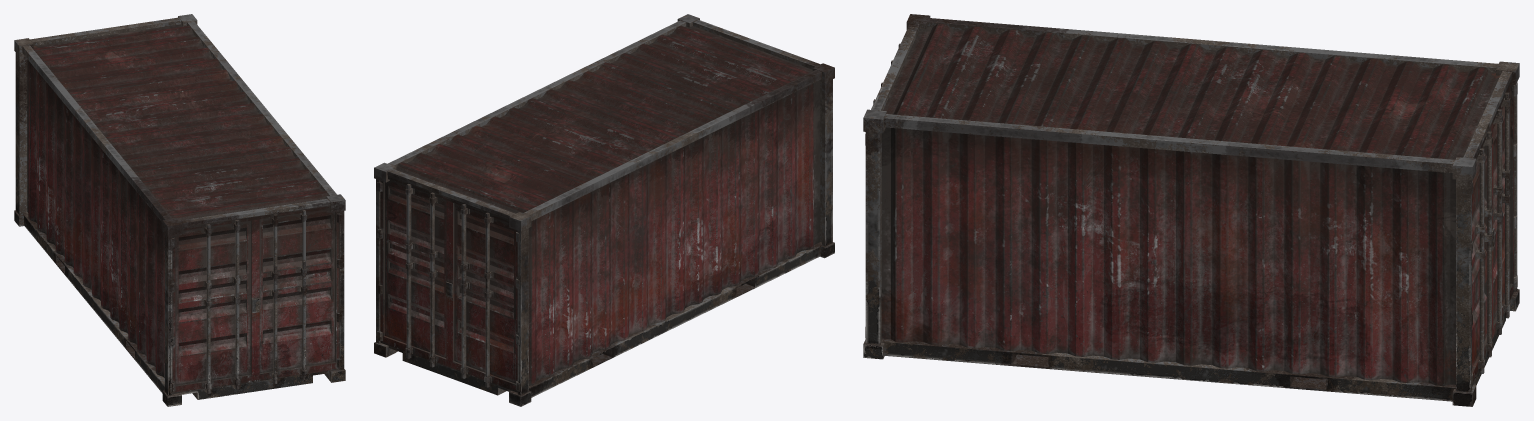
File: free_container_gameready.glb
3 renders of one model, left to right at view 1: azimuth 30°, elevation 25°; view 2: azimuth 150°, elevation 25°; view 3: azimuth 270°, elevation 25°, orthographic. The views are drawn at different scales.
Parts seen in each view (by area): view 1: AssetMesh_001, AssetMesh_002; view 2: AssetMesh_001, AssetMesh_002; view 3: AssetMesh_001, AssetMesh_002.
Boxes of the visible parts, box(x1,y1,x2,y2) form: AssetMesh_001: box(27, 24, 339, 393); AssetMesh_002: box(14, 14, 345, 406); AssetMesh_001: box(380, 25, 820, 392); AssetMesh_002: box(374, 14, 834, 406); AssetMesh_001: box(881, 23, 1514, 385); AssetMesh_002: box(863, 14, 1519, 406).
Size of the model in its own units: 3.59 by 2.62 by 6.5.
Materials: 2 (2 with a texture image).
